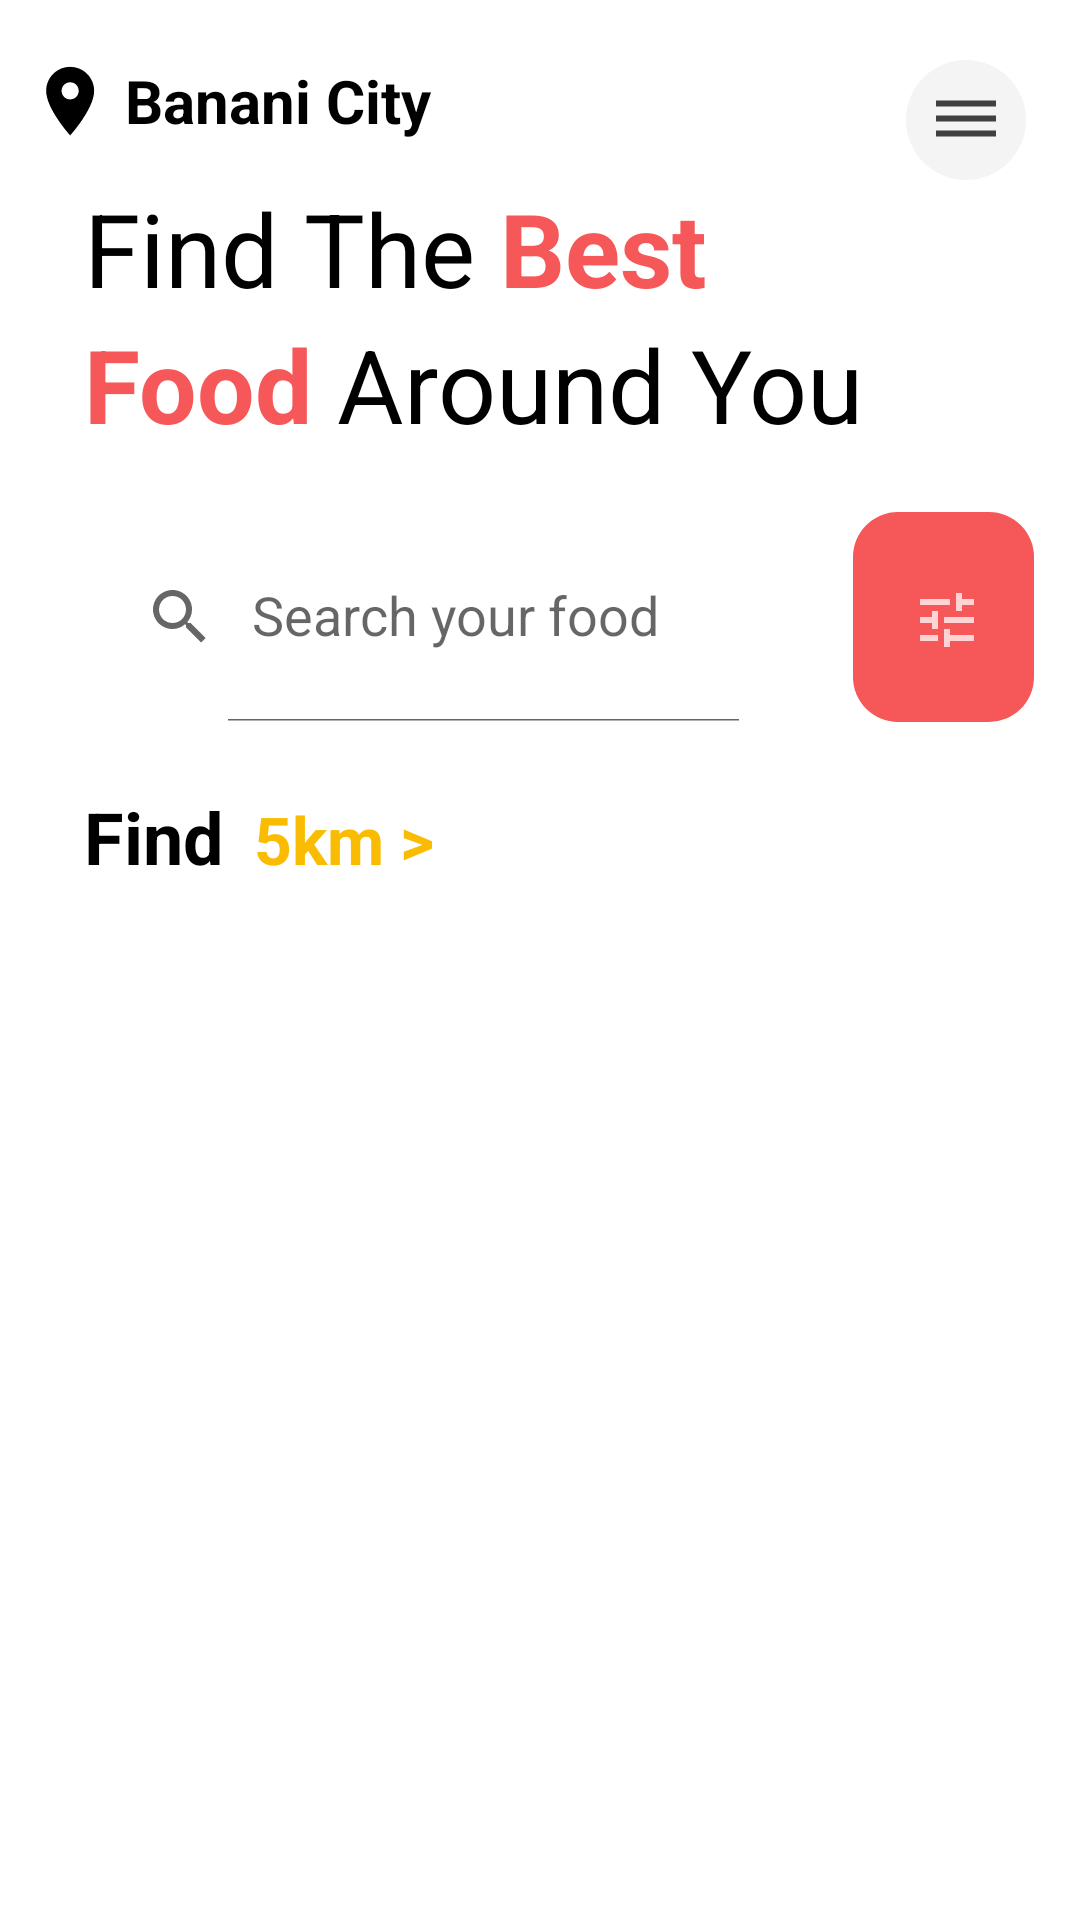

Locate icon controls on the screen. Image size 1080×1920, boxes as {"left": x1, "top": y1, "right": x2, "bottom": y2}.
location vt: {"left": 46, "top": 66, "right": 95, "bottom": 136}
side bar: {"left": 936, "top": 100, "right": 996, "bottom": 137}
tune vt: {"left": 853, "top": 512, "right": 1034, "bottom": 722}
